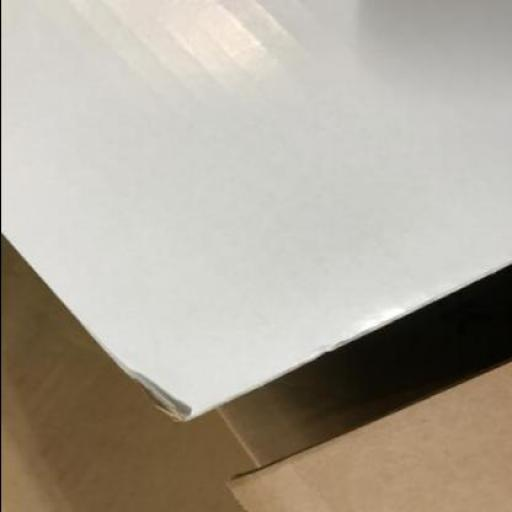cardboard: (1, 1, 511, 511), (6, 1, 511, 425), (223, 362, 511, 511)
